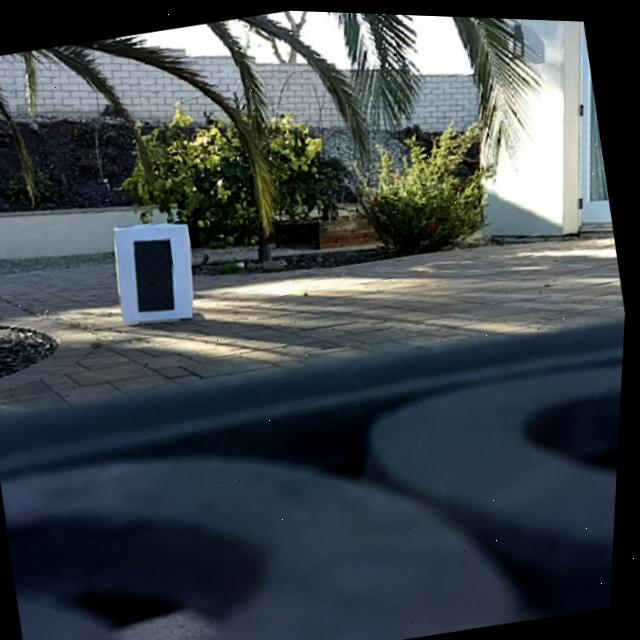led: (127, 232, 190, 319)
